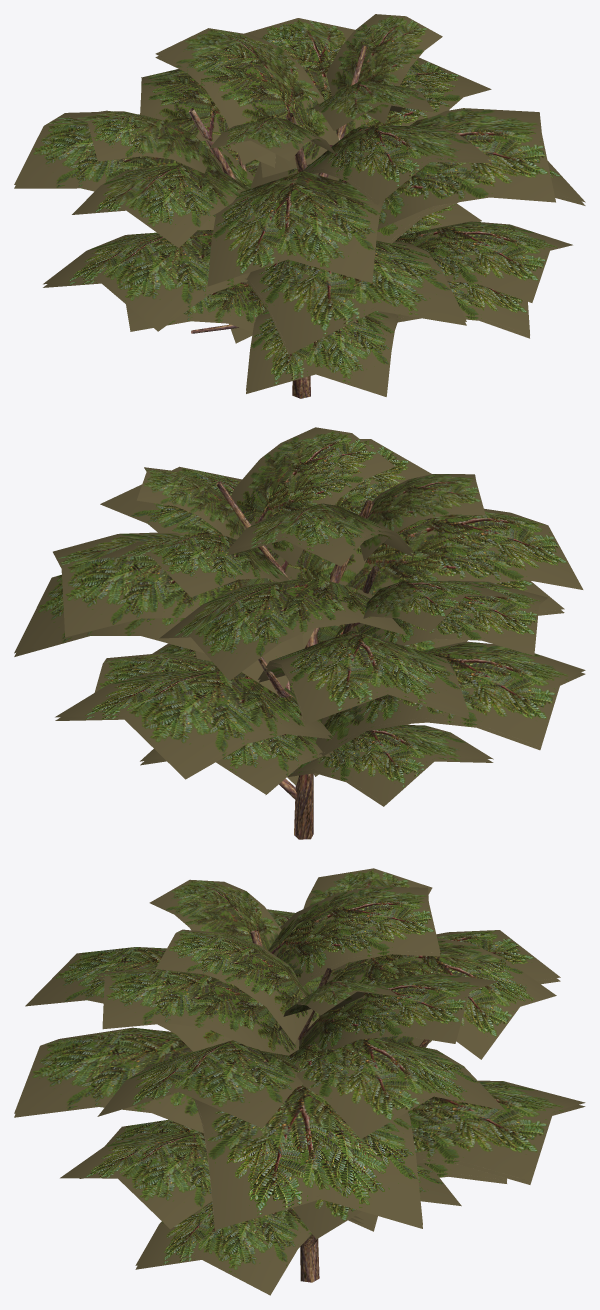
File: acacia.glb
3 views of the same model, one above another, from view 1: azimuth 30°, elevation 25°; view 2: azimuth 150°, elevation 25°; view 3: azimuth 270°, elevation 25° (orthographic). The views are drawn at different scales.
Parts seen in each view (by area): view 1: tree_acacia_leaves_02_01, tree_acacia_trunk_02_01; view 2: tree_acacia_leaves_02_01, tree_acacia_trunk_02_01; view 3: tree_acacia_leaves_02_01, tree_acacia_trunk_02_01.
Part boxes in pixels (x1=…): tree_acacia_leaves_02_01: x1=14, y1=14, x2=585, y2=396; tree_acacia_trunk_02_01: x1=189, y1=45, x2=366, y2=398; tree_acacia_leaves_02_01: x1=14, y1=427, x2=585, y2=806; tree_acacia_trunk_02_01: x1=216, y1=481, x2=379, y2=839; tree_acacia_leaves_02_01: x1=14, y1=868, x2=585, y2=1295; tree_acacia_trunk_02_01: x1=250, y1=930, x2=429, y2=1282.
Bounding box in the file's own units: 14.67 × 9.85 × 14.15.
Materials: 1 (1 with a texture image).
